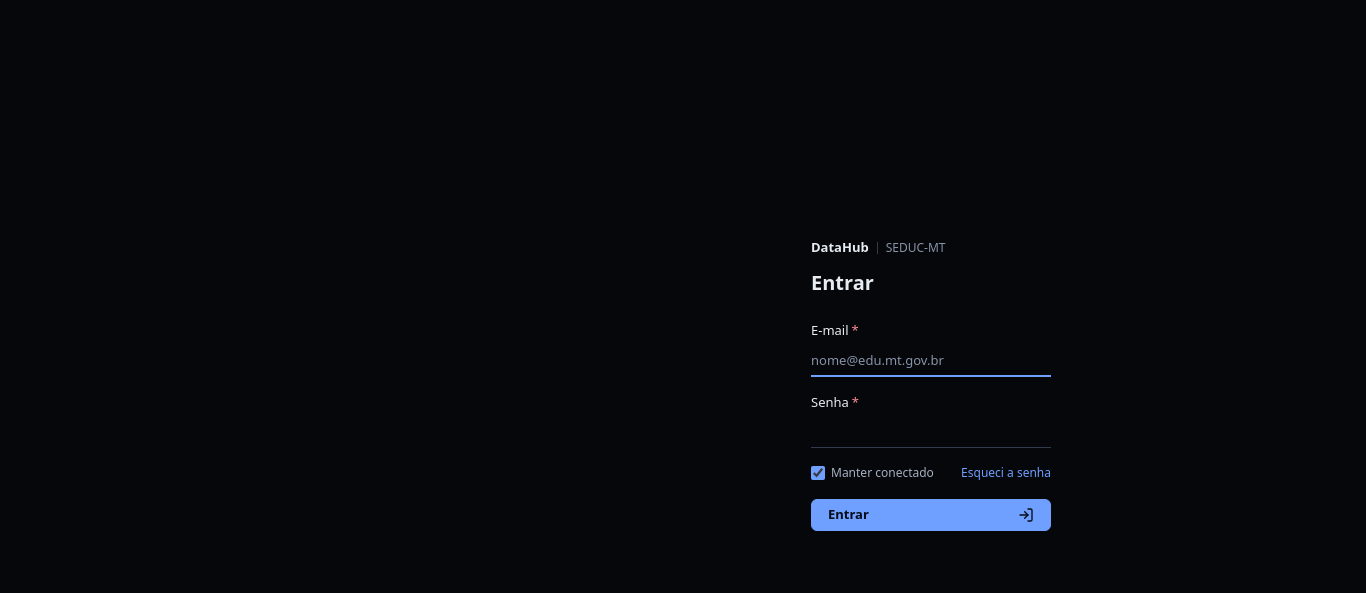
Test: entrar › normaliza o e-mail, entra e mostra o app
This screenshot has width=1366, height=593.
Expected: the heading "Entrar" is shown, [811,269,874,296]
Type "  Pessoa.Teste@EDU.mt.gov.br " into the field labelled "E-mail*" at [931, 361], box [811,346,1051,376]
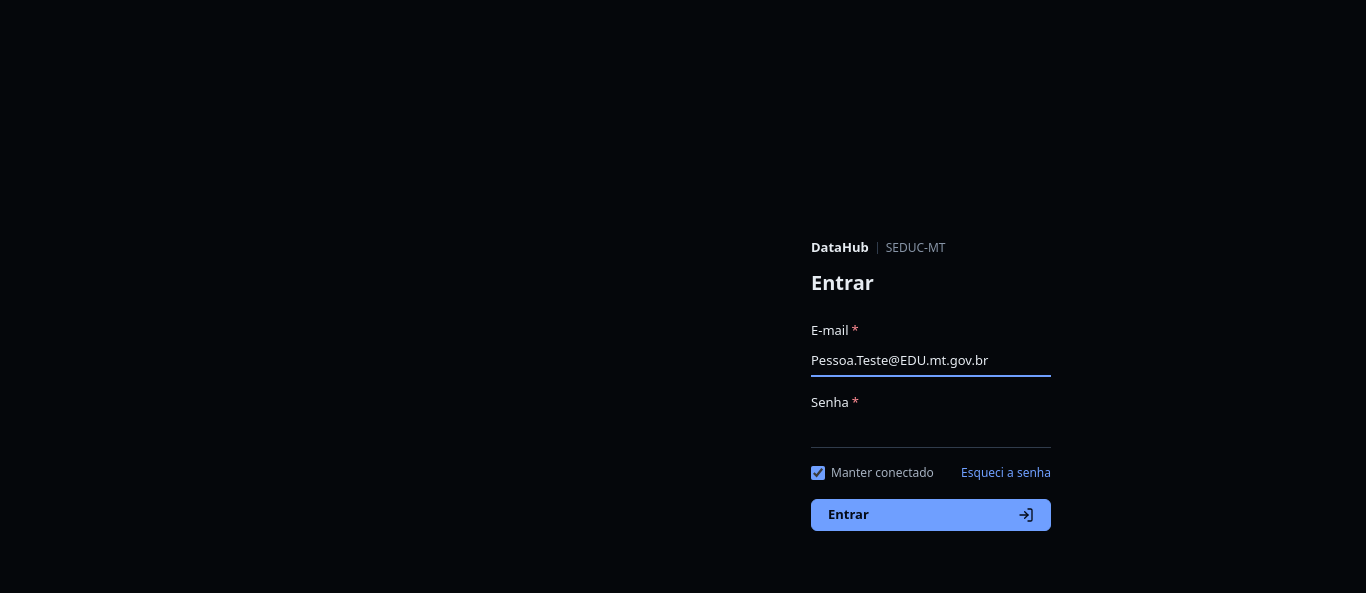
Type "senha-ficticia" into the password field labelled "Senha*" at [931, 433], box [811,418,1051,448]
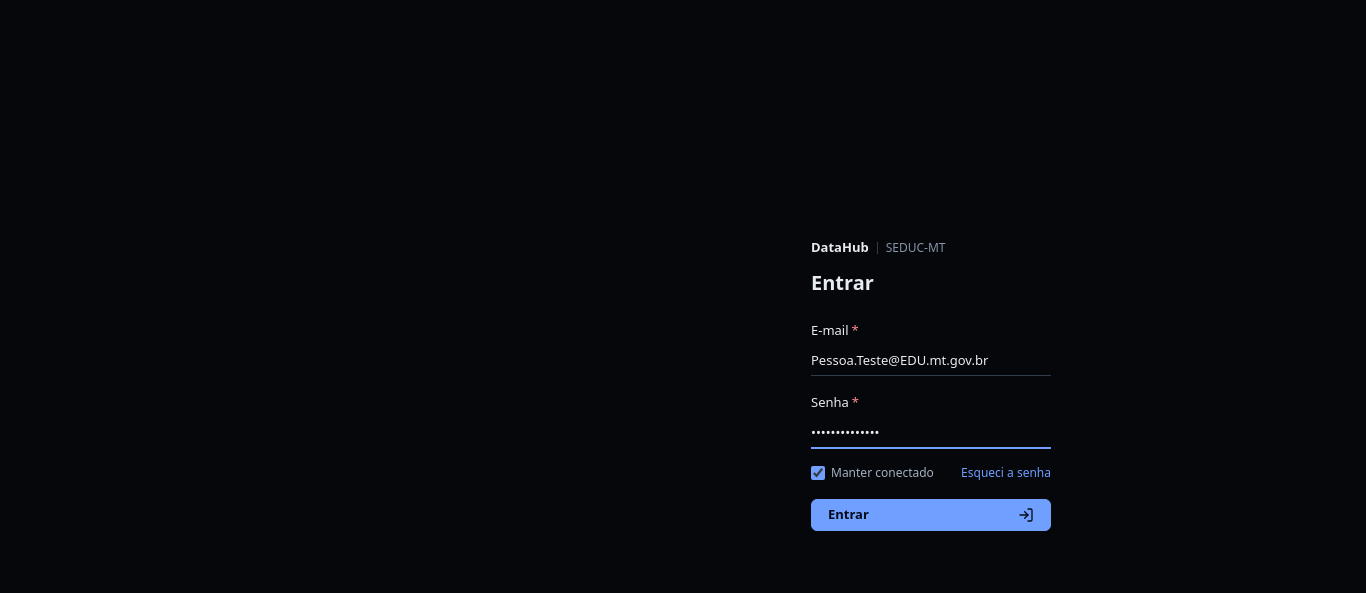
Click the button "Entrar" at [931, 514], box [811,498,1051,530]
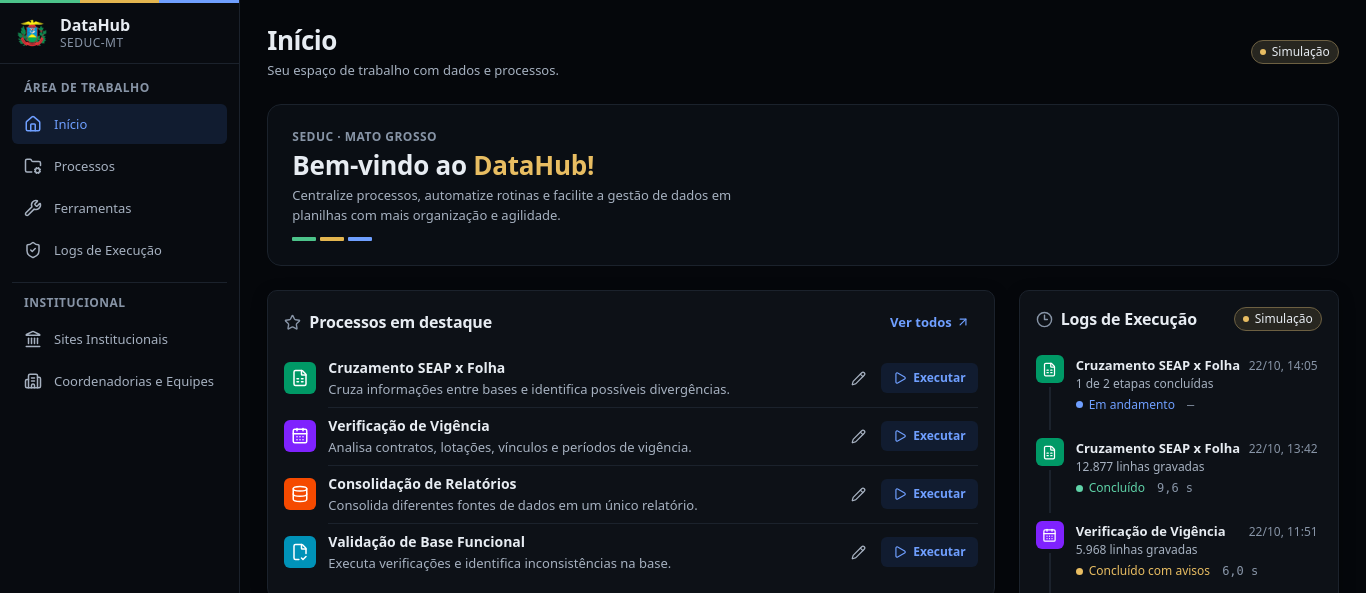
Expected: the heading "Início" is shown, [267,22,337,58]
